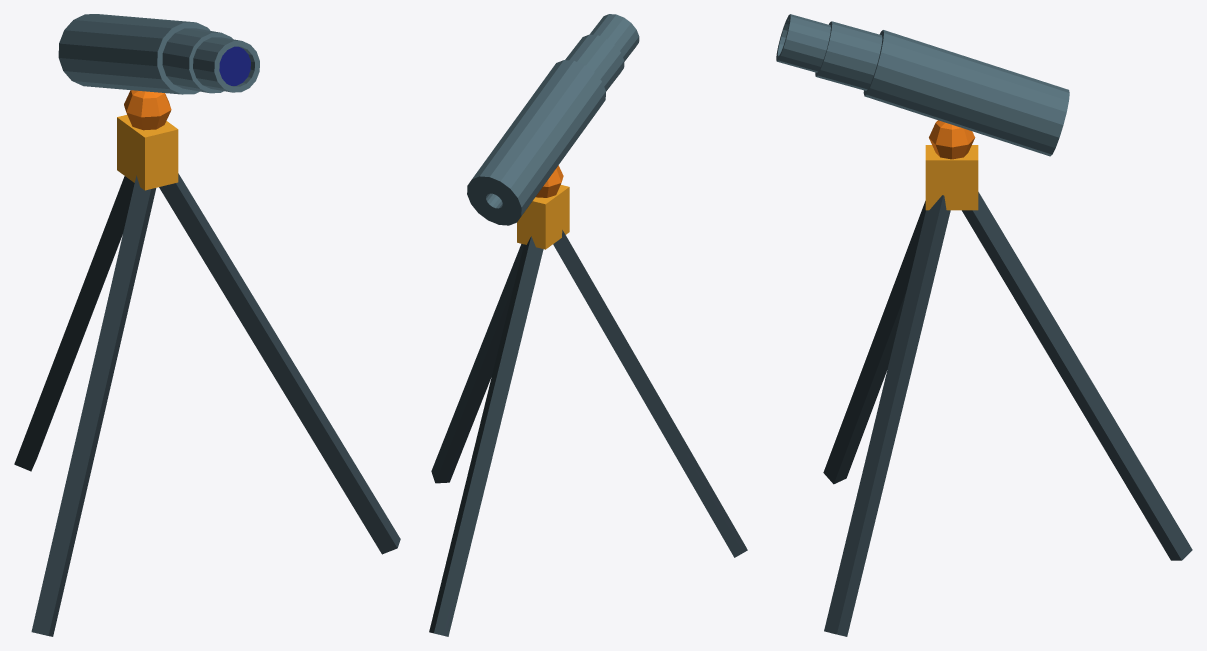
Rendered from telescope.glb.
3 views of the same model, side by side, from view 1: azimuth 30°, elevation 25°; view 2: azimuth 150°, elevation 25°; view 3: azimuth 270°, elevation 25° (orthographic). The views are drawn at different scales.
Visible parts, largest first — view 1: Cylinder; view 2: Cylinder; view 3: Cylinder.
Part boxes in pixels (box(x1,y1,x2,y2)): Cylinder: box(14, 14, 400, 636); Cylinder: box(429, 14, 747, 636); Cylinder: box(776, 14, 1192, 636).
Size of what is drawn, in the model's own units: 1.39 by 2.08 by 1.44.
3 materials, 3 textured.
